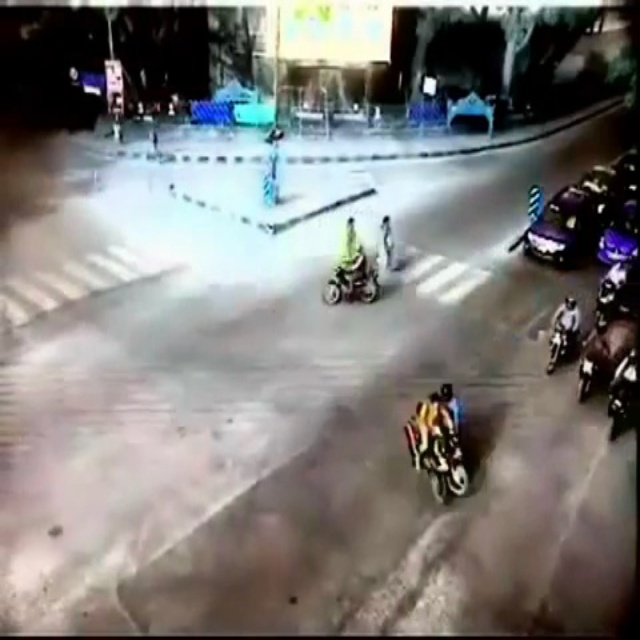acc: (401, 383, 474, 509)
